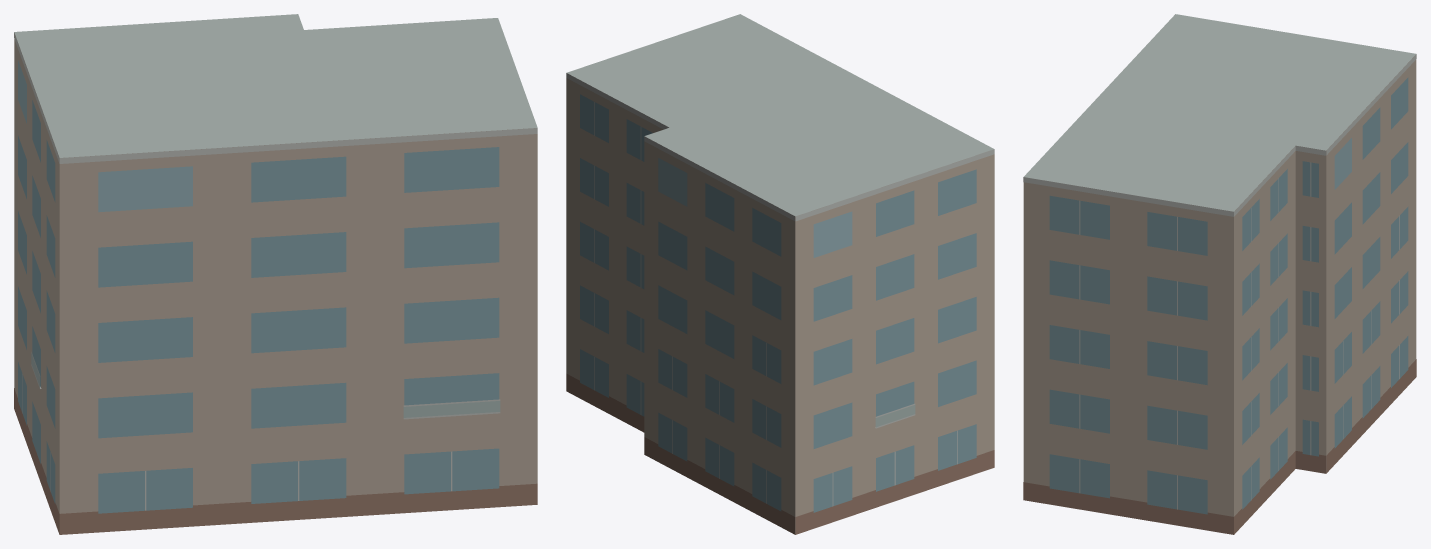
File: survey-upis-32724848.glb
3 renders of one model, left to right at view 1: azimuth 30°, elevation 25°; view 2: azimuth 150°, elevation 25°; view 3: azimuth 270°, elevation 25°, orthographic. The views are drawn at different scales.
Visible parts, largest first — view 1: survey-upis-32724848.tmp; view 2: survey-upis-32724848.tmp; view 3: survey-upis-32724848.tmp.
Boxes of the visible parts, bbox=[...] form: survey-upis-32724848.tmp: bbox=[14, 14, 537, 534]; survey-upis-32724848.tmp: bbox=[566, 14, 994, 534]; survey-upis-32724848.tmp: bbox=[1023, 14, 1416, 534].
Size of the model in its own units: 20.02 by 15.25 by 16.82.
